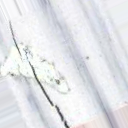crackTip: (6, 18, 74, 128)
